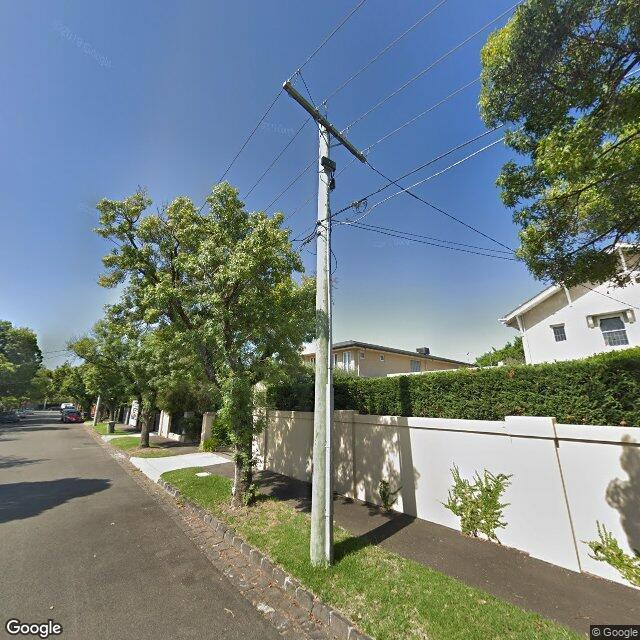crossarm: (282, 79, 368, 163)
timber-pole: (309, 122, 333, 568)
